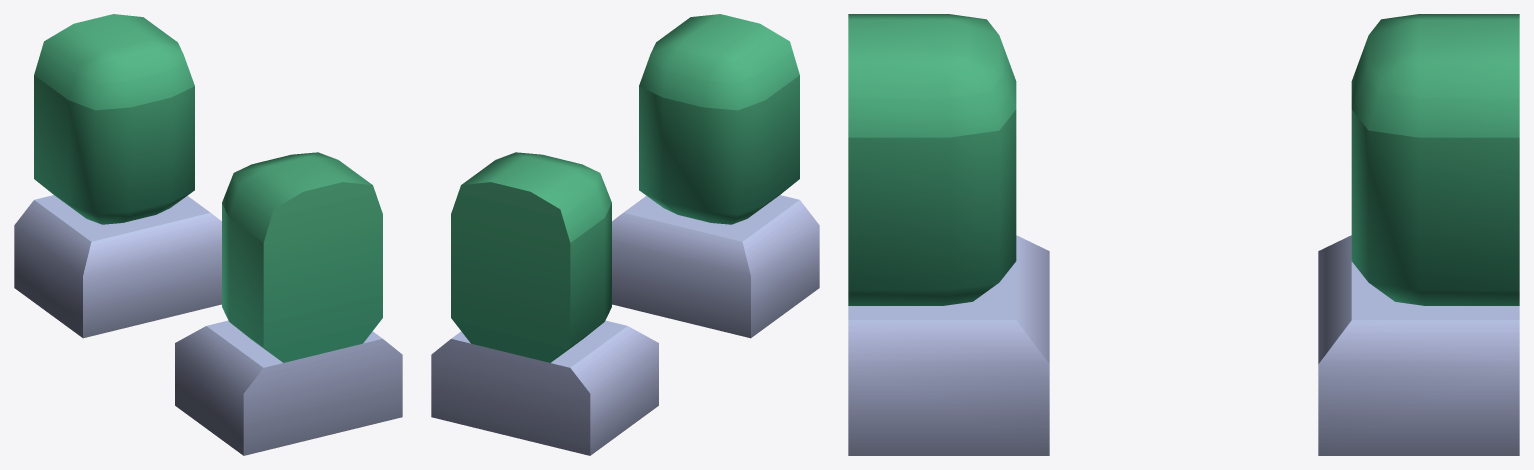
File: hedge-large-gate.glb
3 renders of one model, left to right at view 1: azimuth 30°, elevation 25°; view 2: azimuth 150°, elevation 25°; view 3: azimuth 270°, elevation 25°, orthographic. The views are drawn at different scales.
Visible parts, largest first — view 1: hedge-large-gate; view 2: hedge-large-gate; view 3: hedge-large-gate.
Part boxes in pixels (x1,y1,x2,y2): hedge-large-gate: [14, 14, 402, 455]; hedge-large-gate: [431, 14, 819, 455]; hedge-large-gate: [848, 14, 1519, 455].
Size of the model in its own units: 0.3999 by 0.6001 by 1.
1 material, 1 textured.
